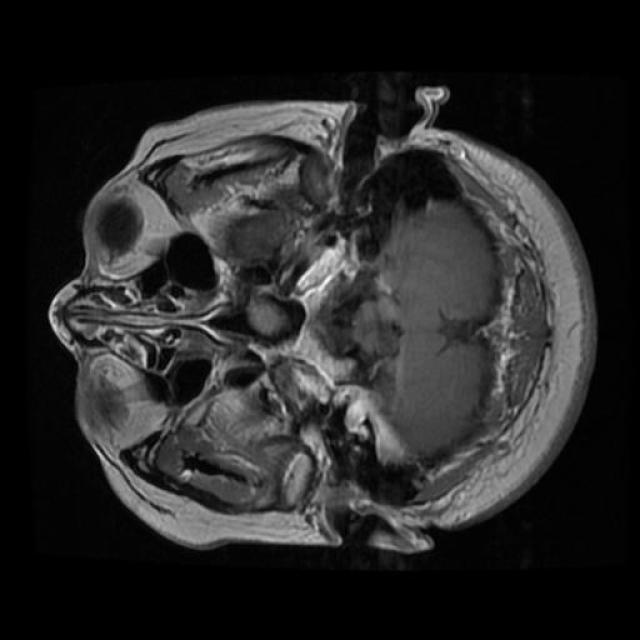Pituitary: (246, 291, 292, 337)
